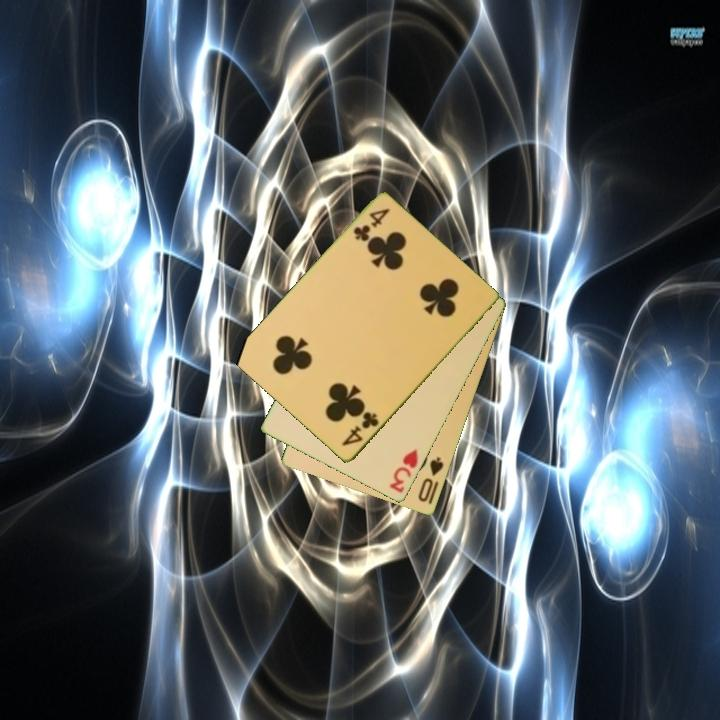10s: (414, 454, 447, 505)
3h: (386, 446, 421, 496)
4c: (338, 408, 382, 450), (350, 205, 393, 245)
